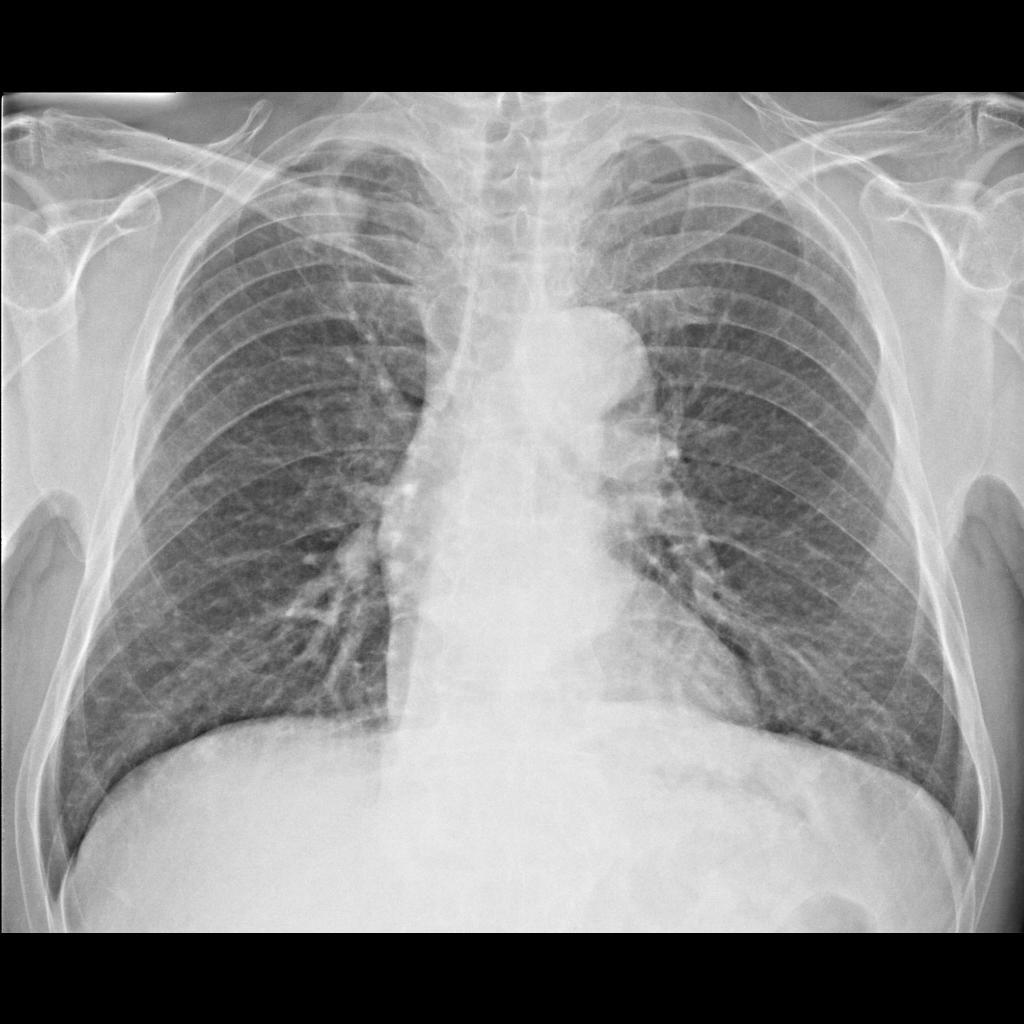Nodule: (301, 187, 361, 247)
